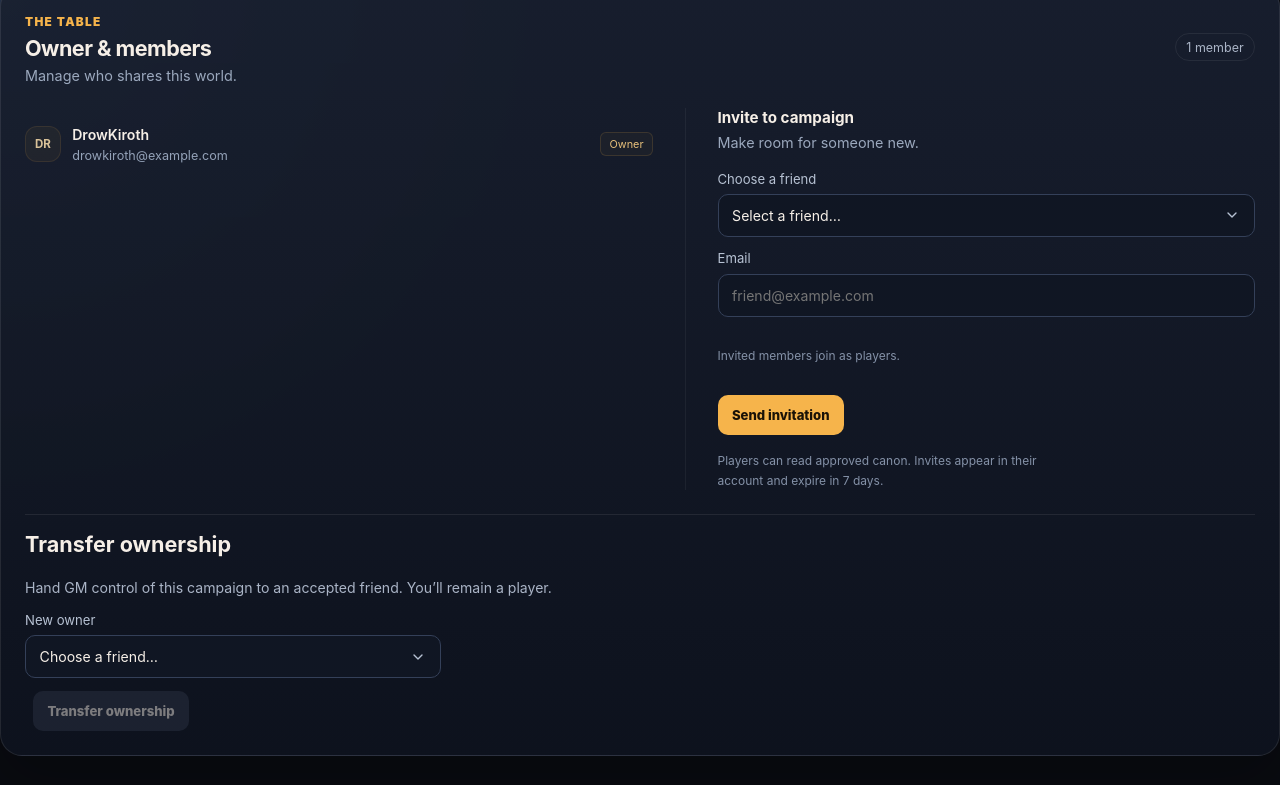
Test: invites an accepted friend with an explicit campaign role
The image size is (1280, 785).
Select "Rin" in the dropdown labelled "Choose a friend": [986, 215] box x1=718 y1=194 x2=1255 y2=237
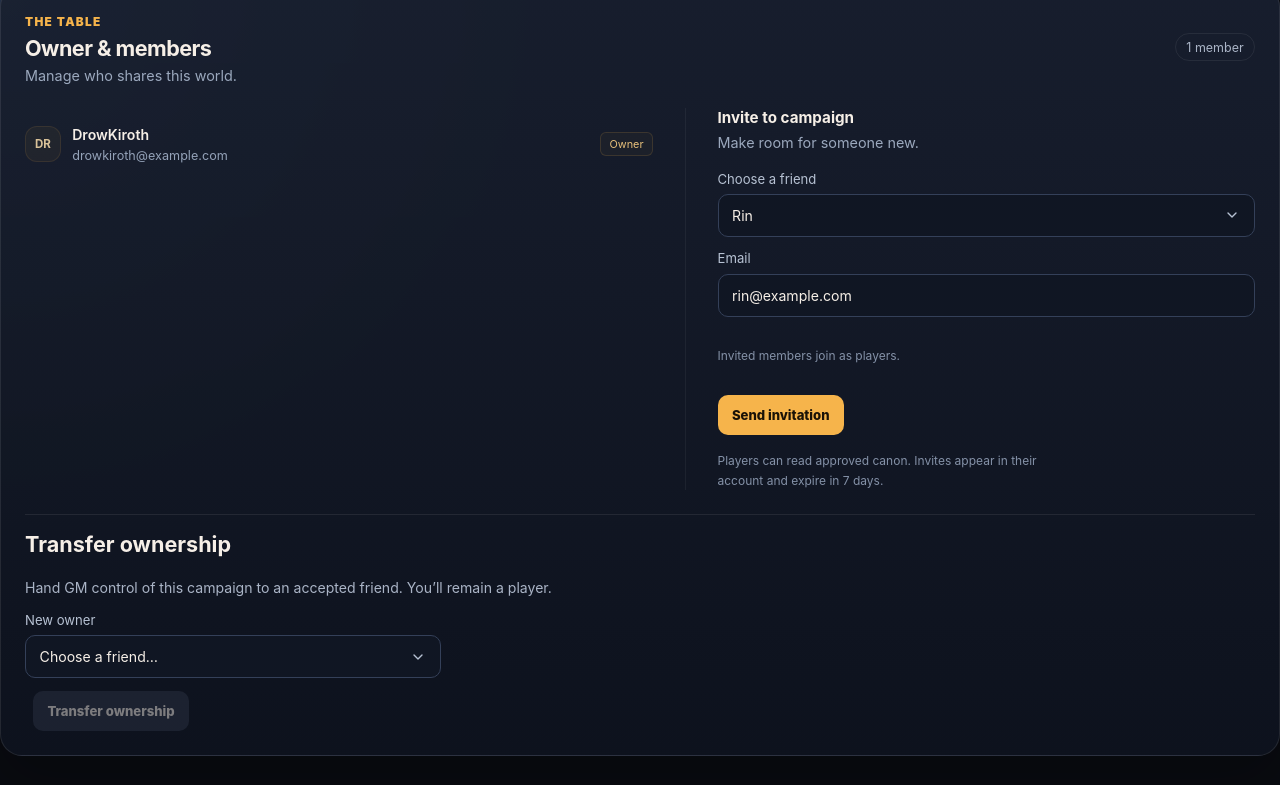
Click the button "Send invitation": [781, 415] box x1=718 y1=395 x2=844 y2=435
(page scrolled)
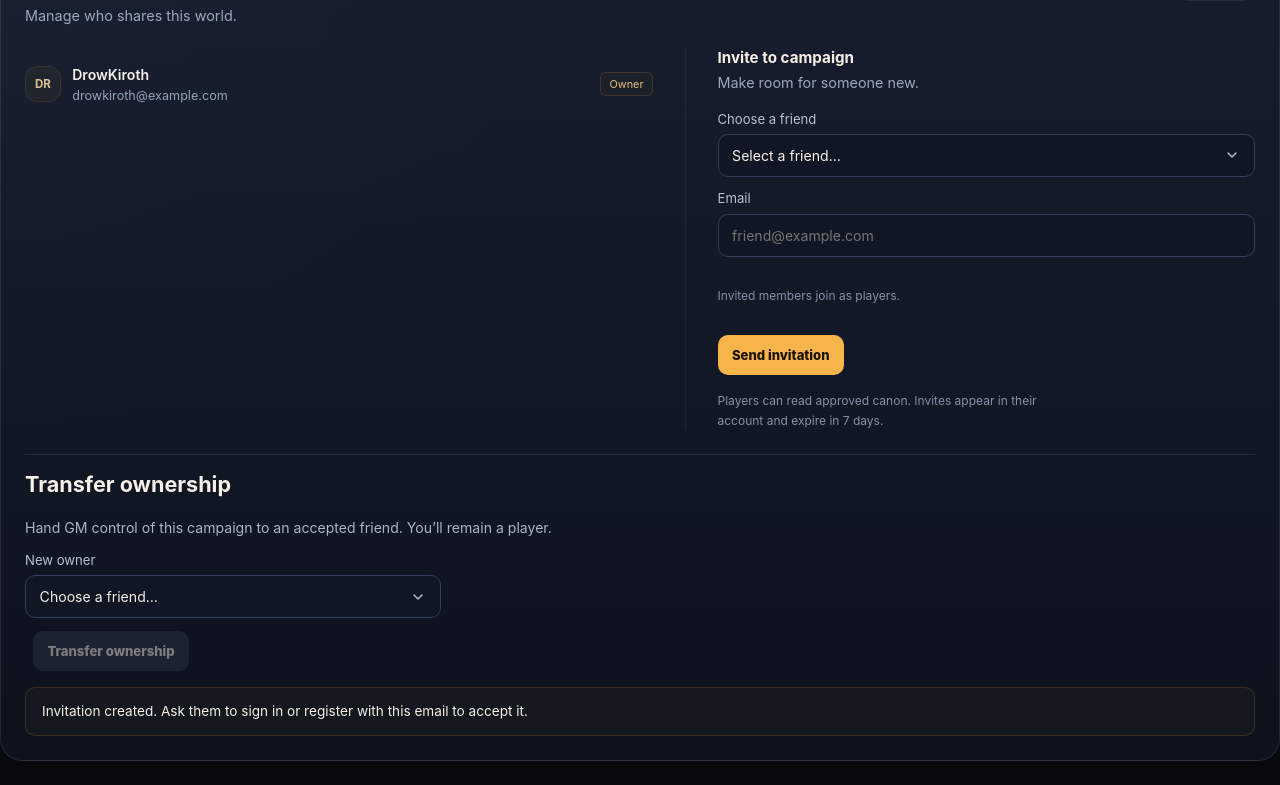
expect the text "Invitation created" is shown: met, box x1=42 y1=703 x2=528 y2=719
